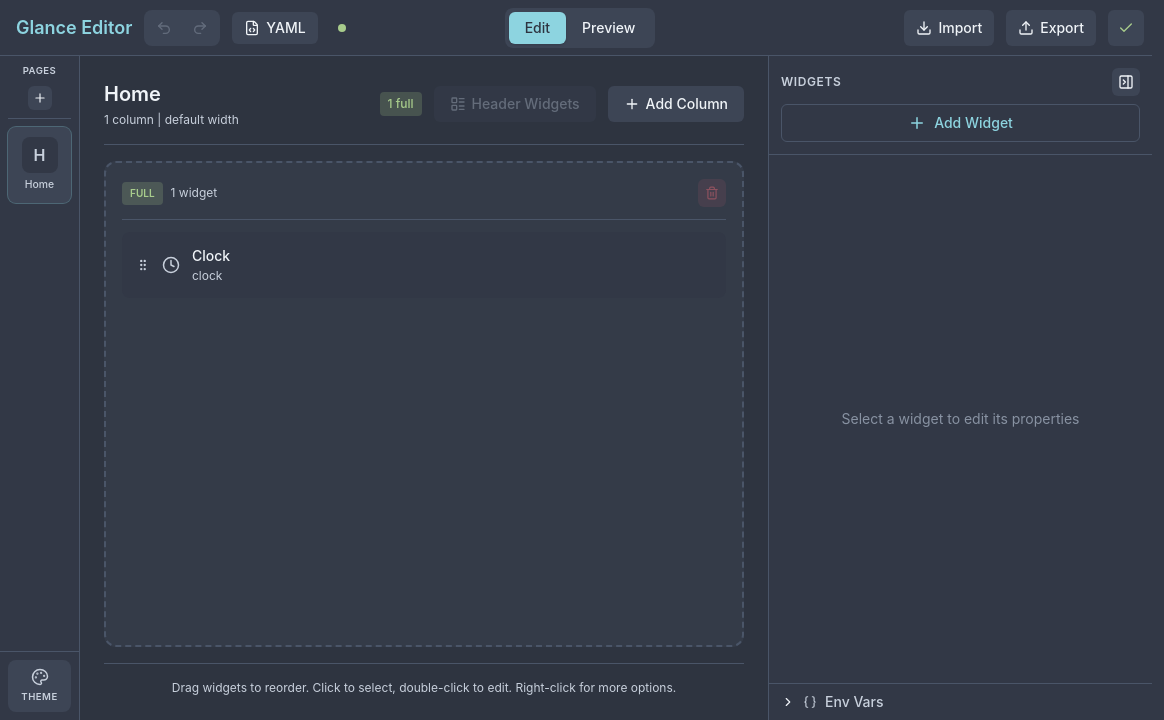
Test: App › opens widget palette when clicking add widget button
Find all "Add Widget" buttons and click the first one (in the header)
Click the button "Add Widget".
click(960, 123)  # box [781,104,1140,142]
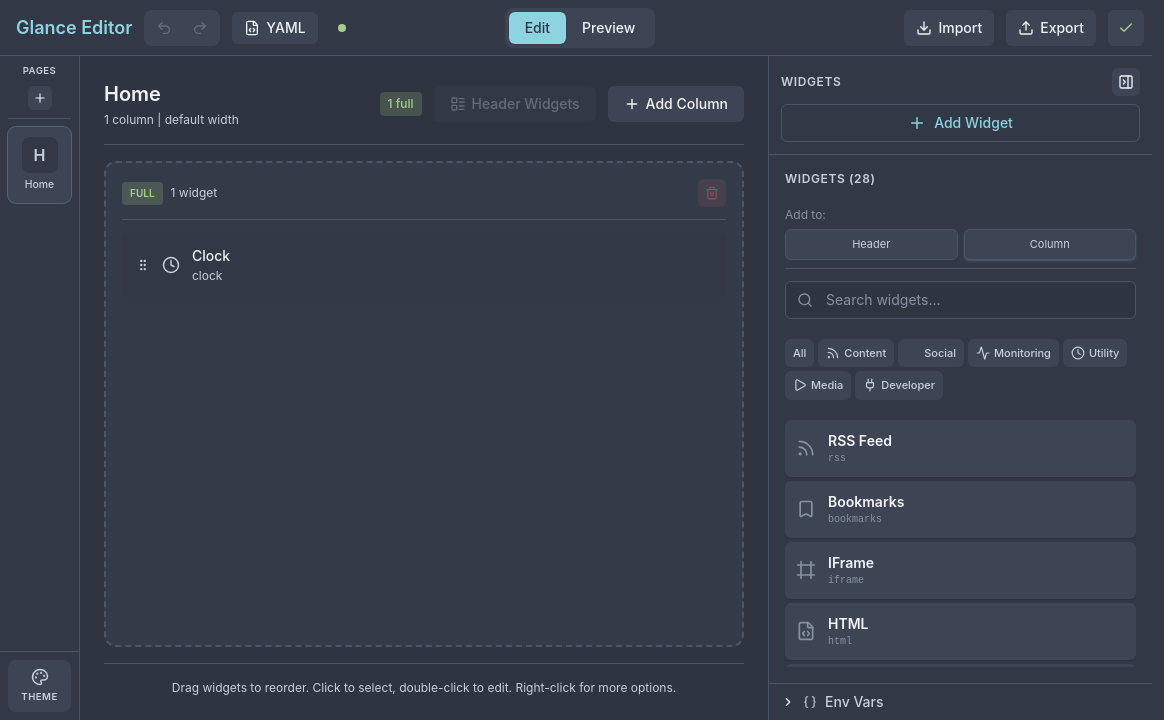
Now the field with placeholder "Search widgets..." is shown, box [785,280,1136,318]
